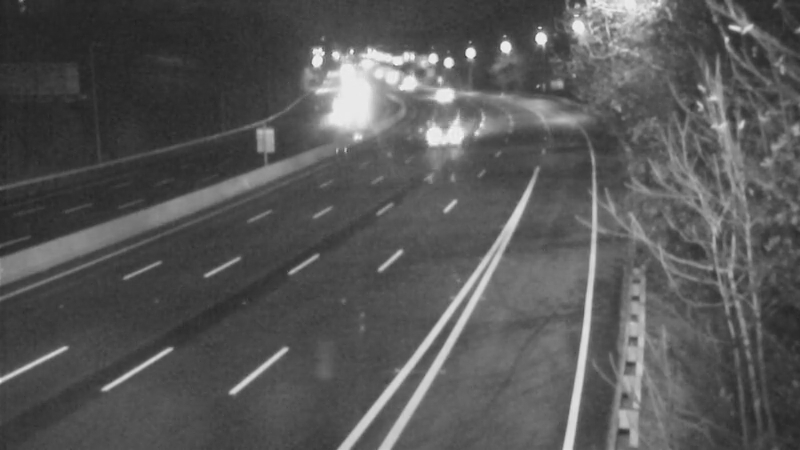vehicle: (352, 49, 402, 99), (381, 57, 431, 107), (415, 68, 465, 118), (424, 110, 474, 160), (312, 89, 362, 139)
